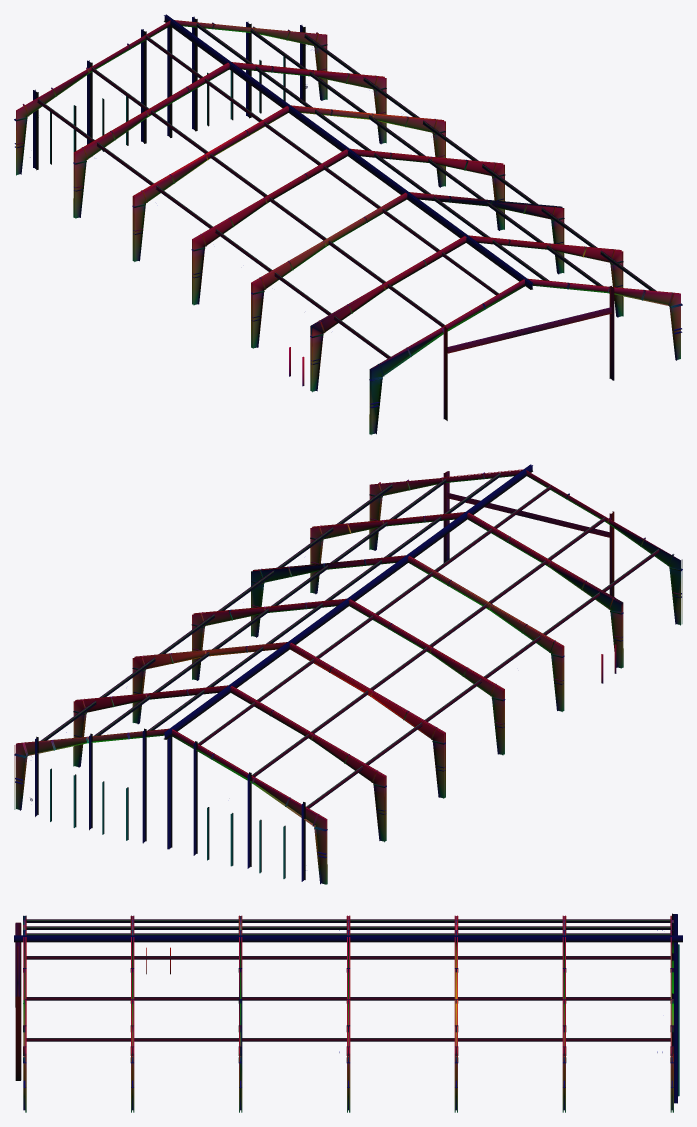
File: Hanger_DarkMetal.fbx
3 views of the same model, one above another, from view 1: azimuth 30°, elevation 25°; view 2: azimuth 150°, elevation 25°; view 3: azimuth 270°, elevation 25° (orthographic). The views are drawn at different scales.
Parts seen in each view (by area): view 1: Hanger_DarkMetal; view 2: Hanger_DarkMetal; view 3: Hanger_DarkMetal.
Part boxes in pixels (x1,y1,x2,y2): Hanger_DarkMetal: [14, 14, 682, 434]; Hanger_DarkMetal: [14, 464, 682, 884]; Hanger_DarkMetal: [14, 913, 682, 1112].
Bounding box in the file's own units: 3986 × 1448 × 8101.
